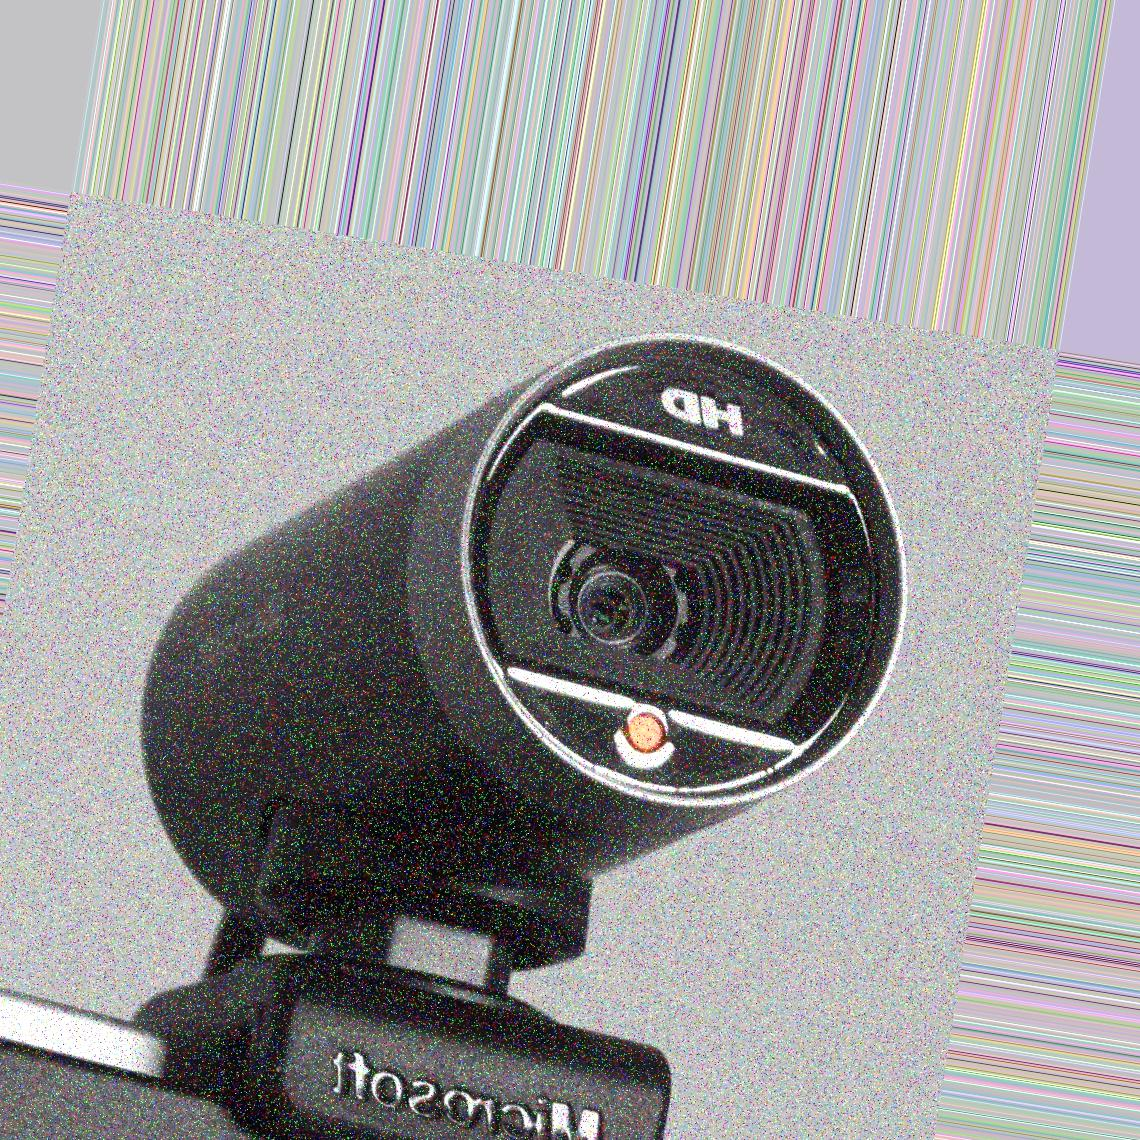webcam: (129, 305, 932, 957)
